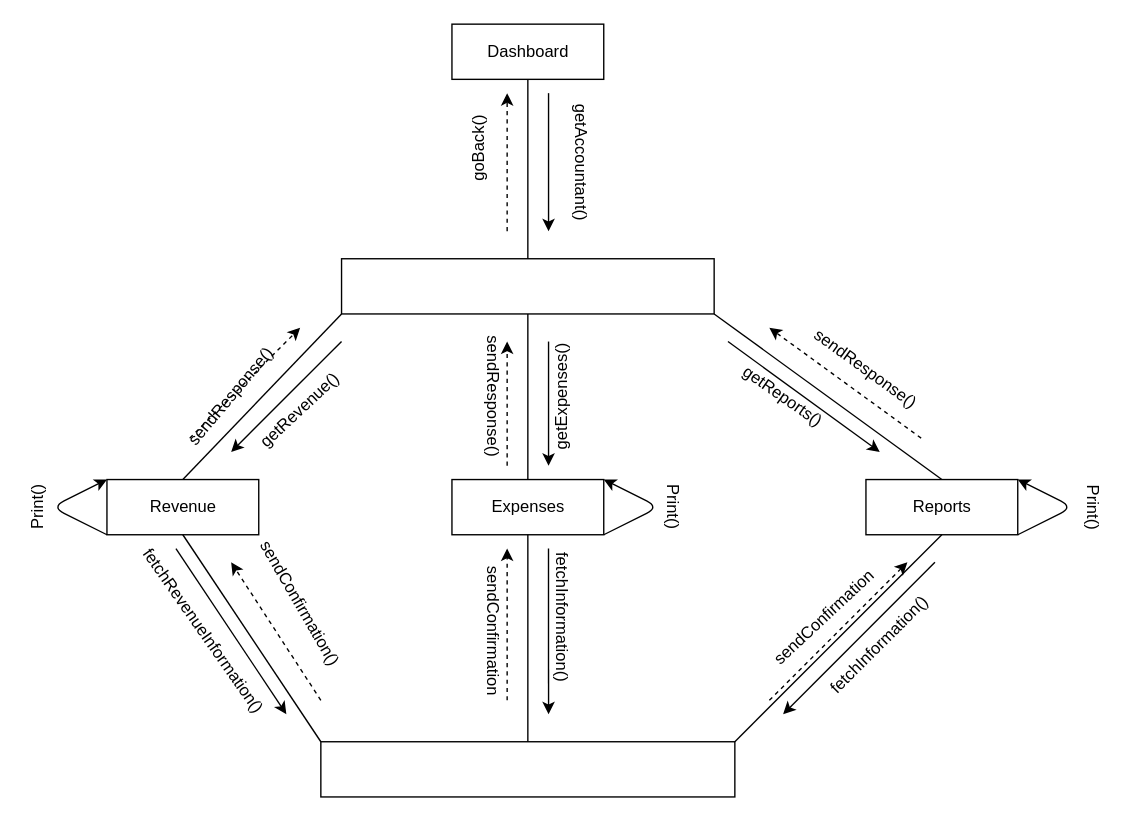
Some shapes in this 1130 by 821 pixel diagram are drawn without their labels. Each missing label, with the centre of its shape:
"Accountant" belongs at pixel 527 285.
"Database" belongs at pixel 527 768.
